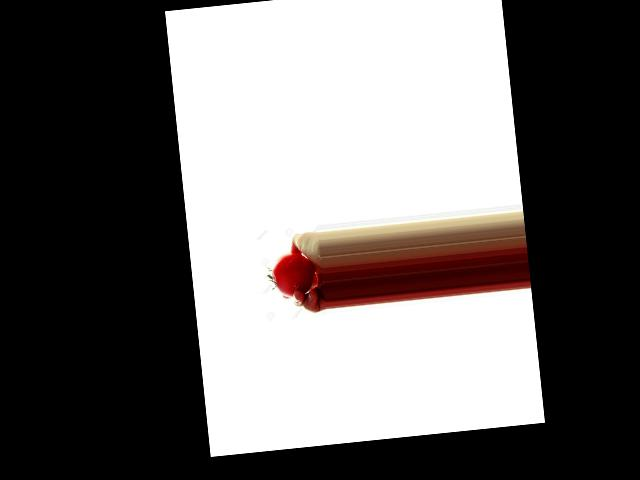tomato: (269, 251, 316, 300)
